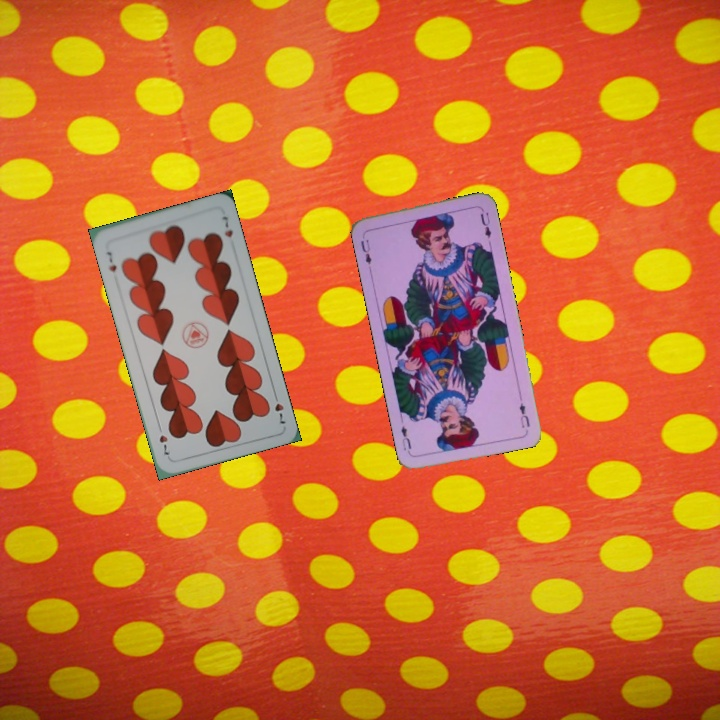EU: (357, 235, 374, 267), (515, 399, 532, 430)
H7: (269, 388, 288, 427), (103, 247, 119, 274)
